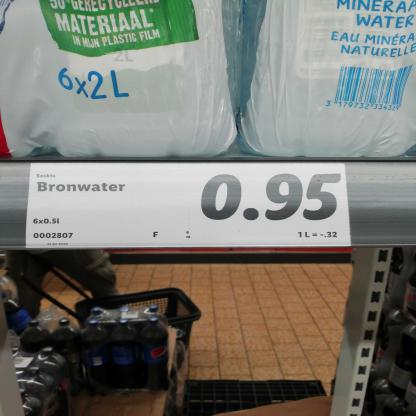prtg: (26, 164, 351, 249)
